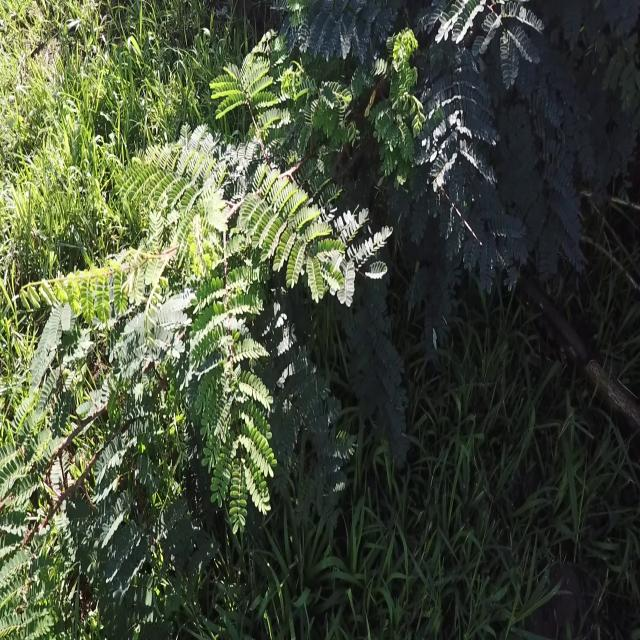Mysore-Thorn-Weed: (282, 0, 634, 467), (0, 123, 276, 639)
